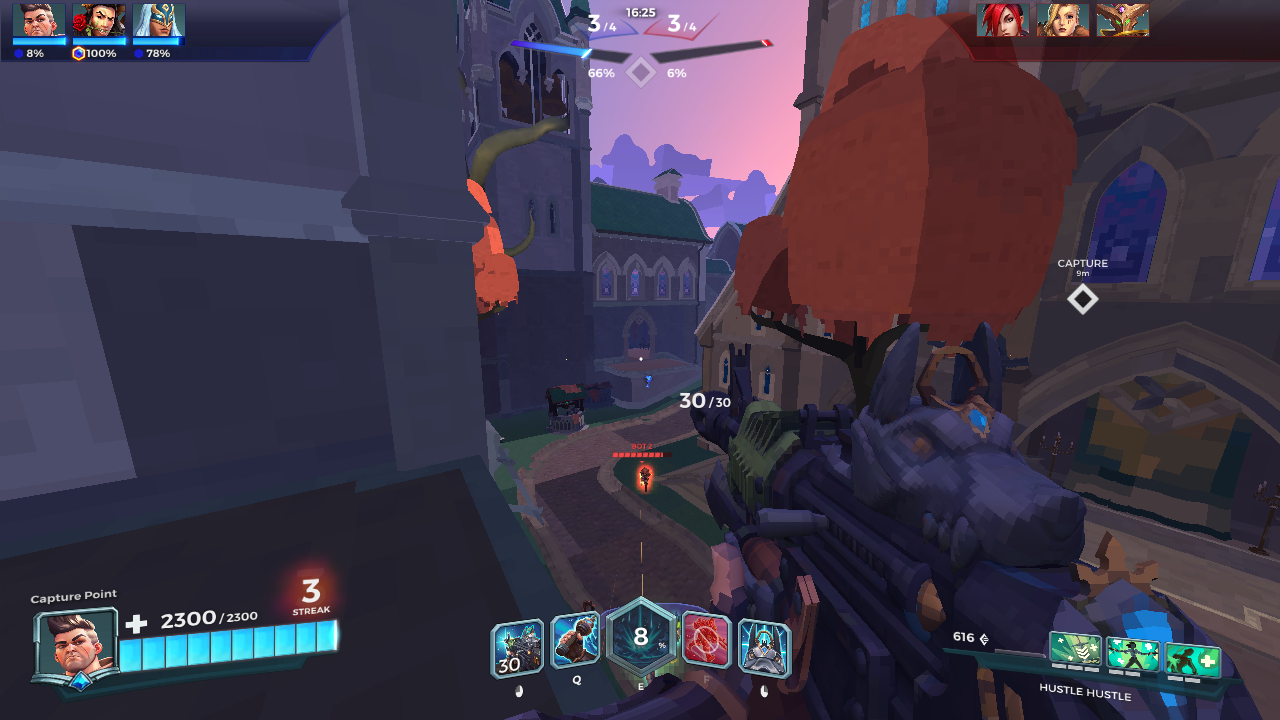model: (634, 464, 656, 491)
